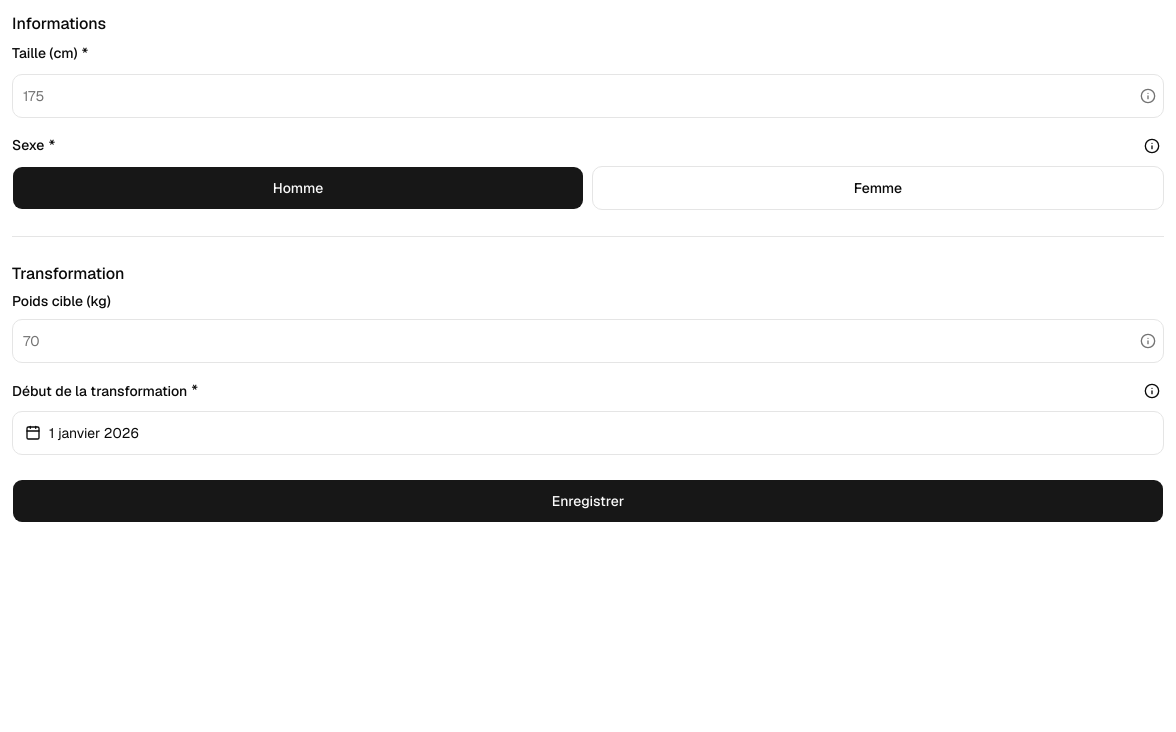
Test case: HeightForm — submission › shows a field error under the field on 400, and keeps the value the user typed
In the field labelled "Taille (cm)": coordinates (574, 96) [13,74,1136,118], type "300"
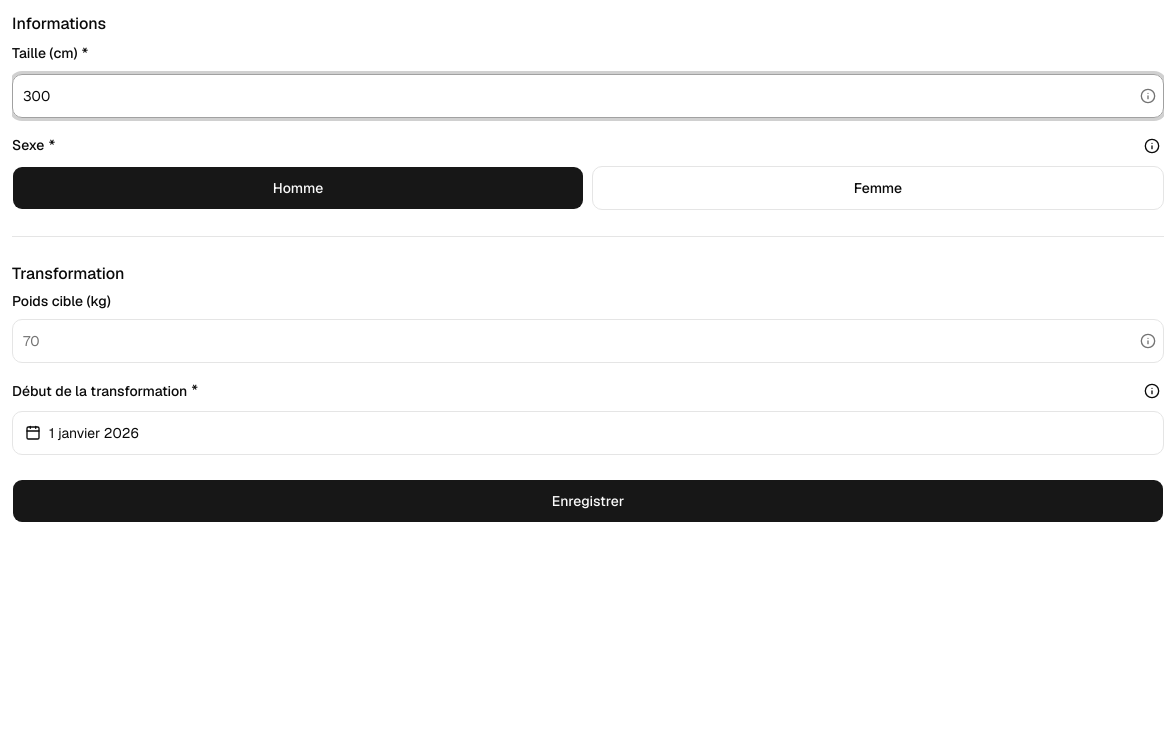
Click the button "Enregistrer": coordinates (588, 501) [12,479,1164,523]
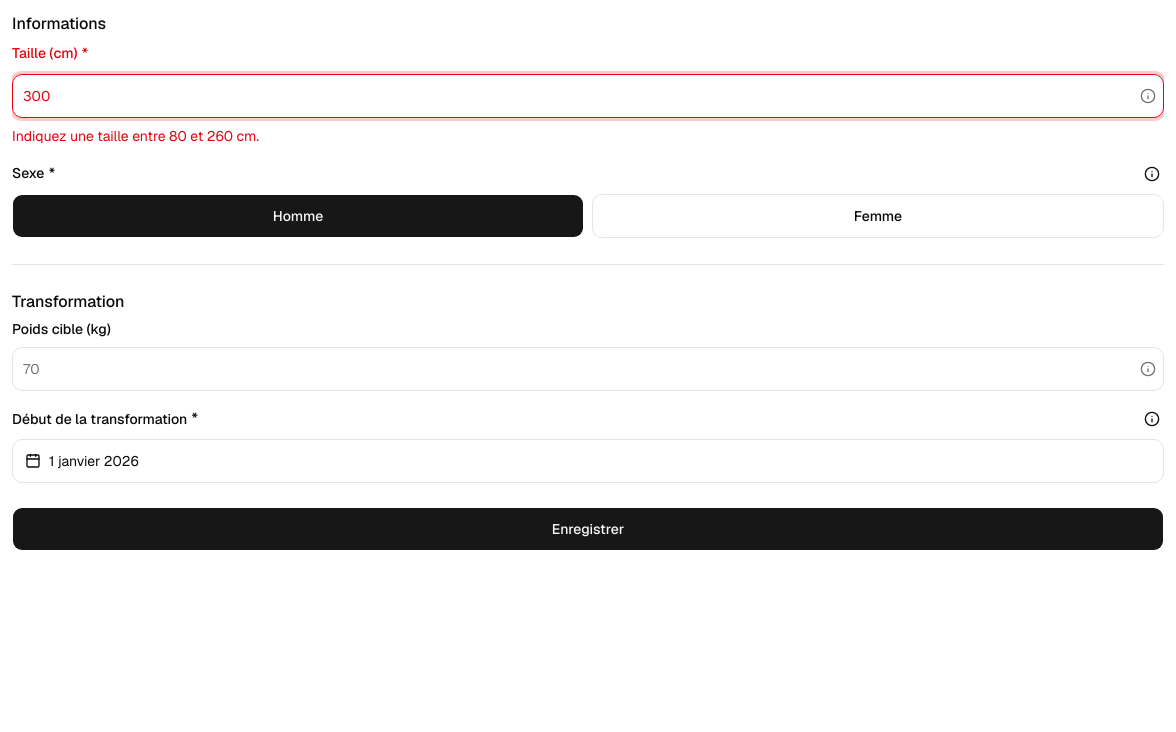
Now the text "Indiquez une taille entre 80 et 260 cm." is shown, box [12,127,259,145]
